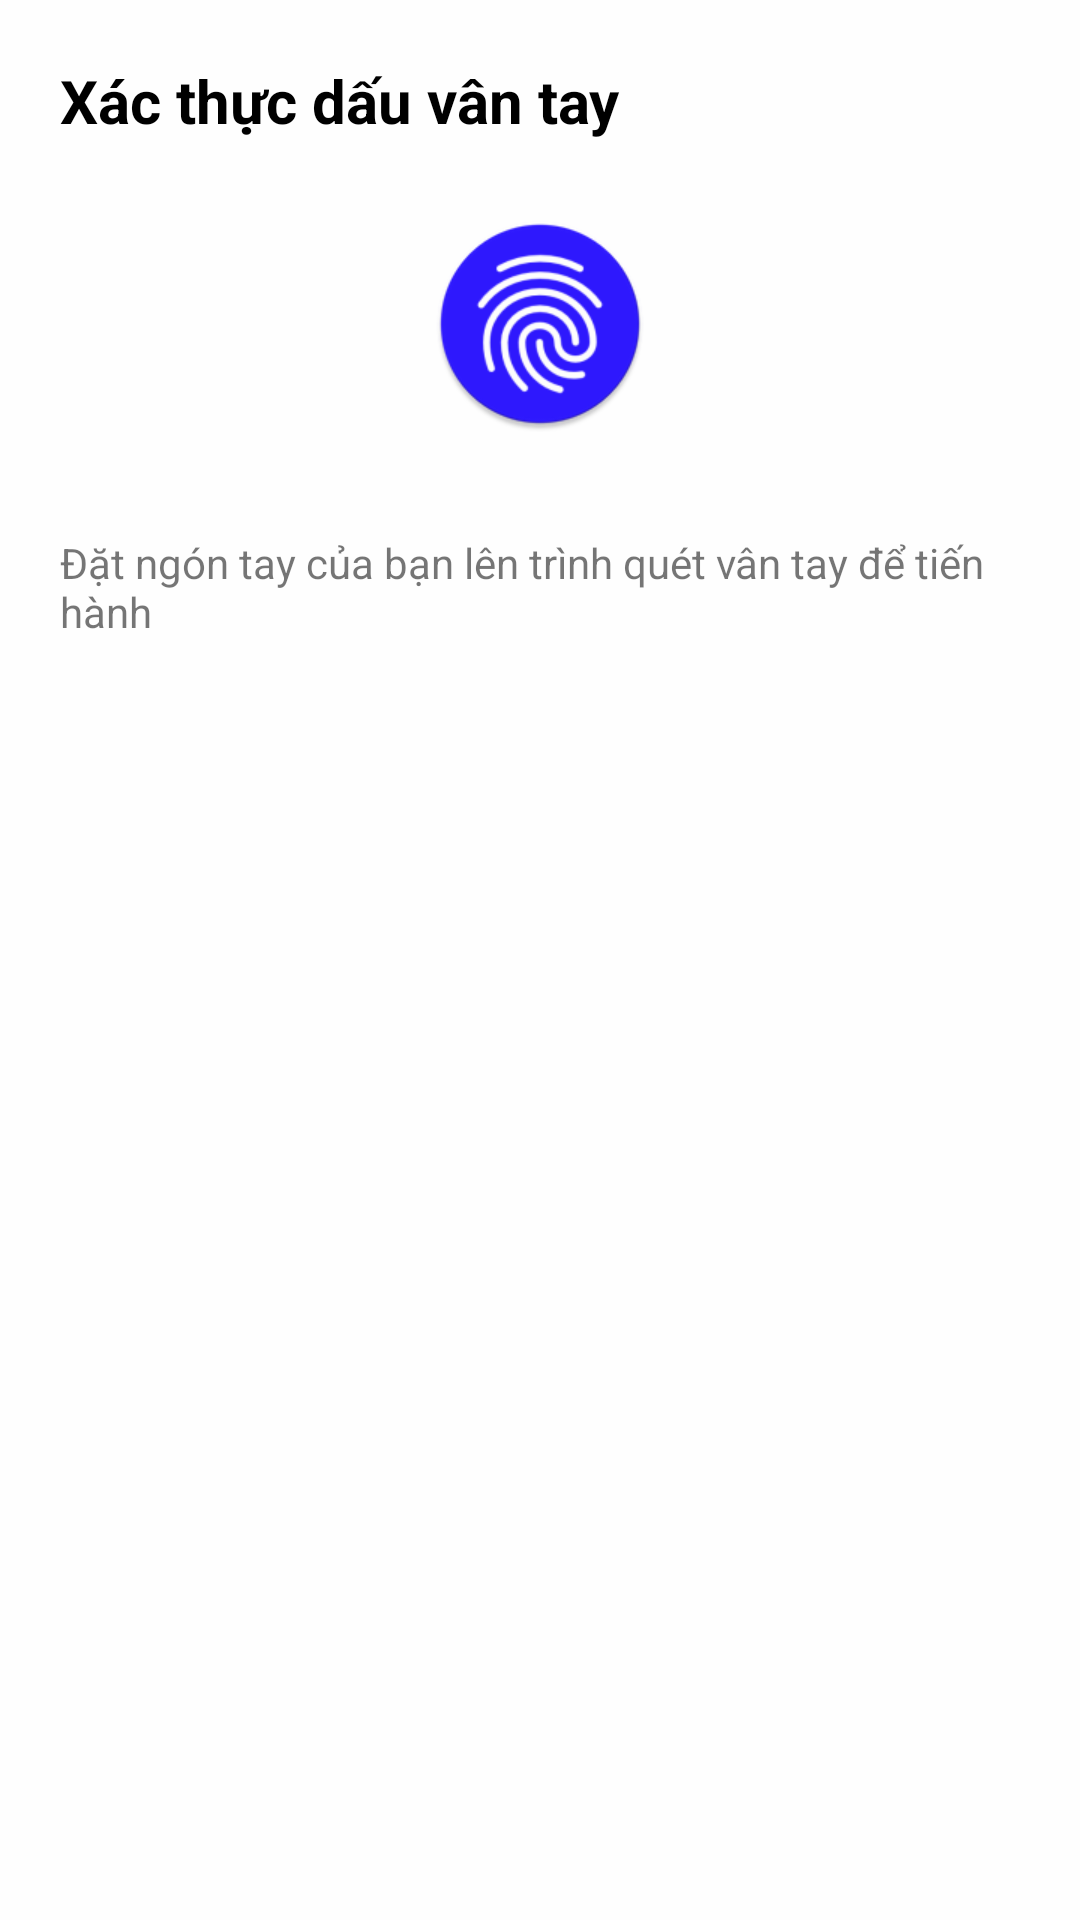

Screen size 1080px x 1920px. Icon name, then its box in pixels as (x1, y1, x2, y2):
fingerprint: (439, 224, 641, 428)
